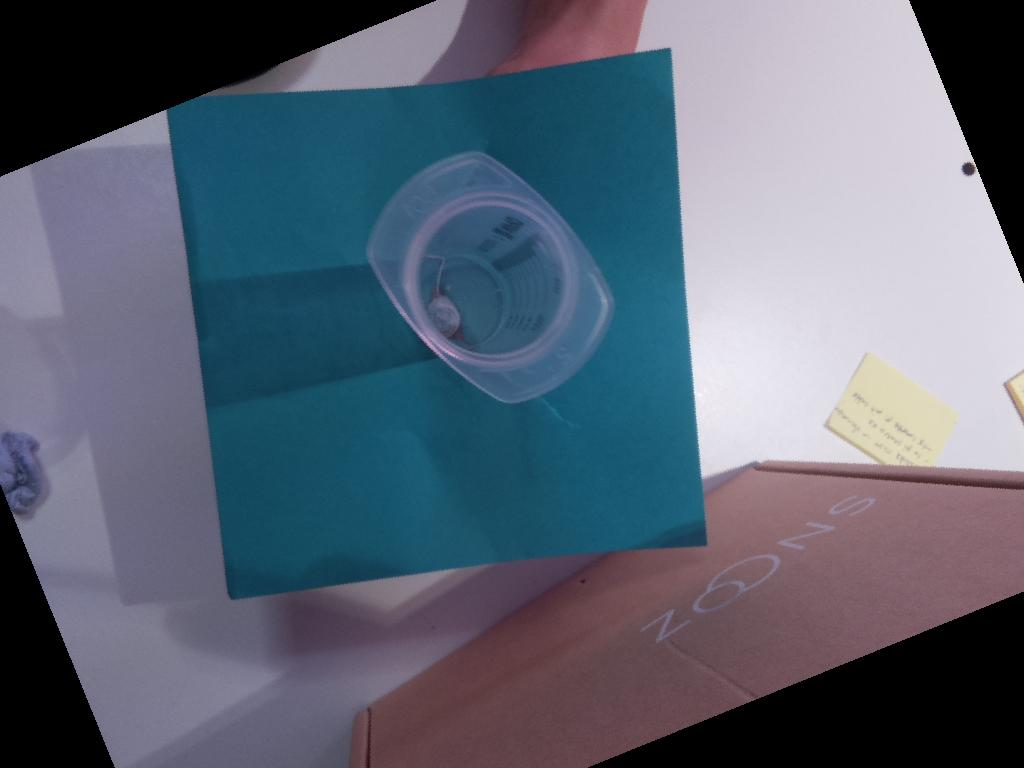clean: (366, 148, 613, 406)
